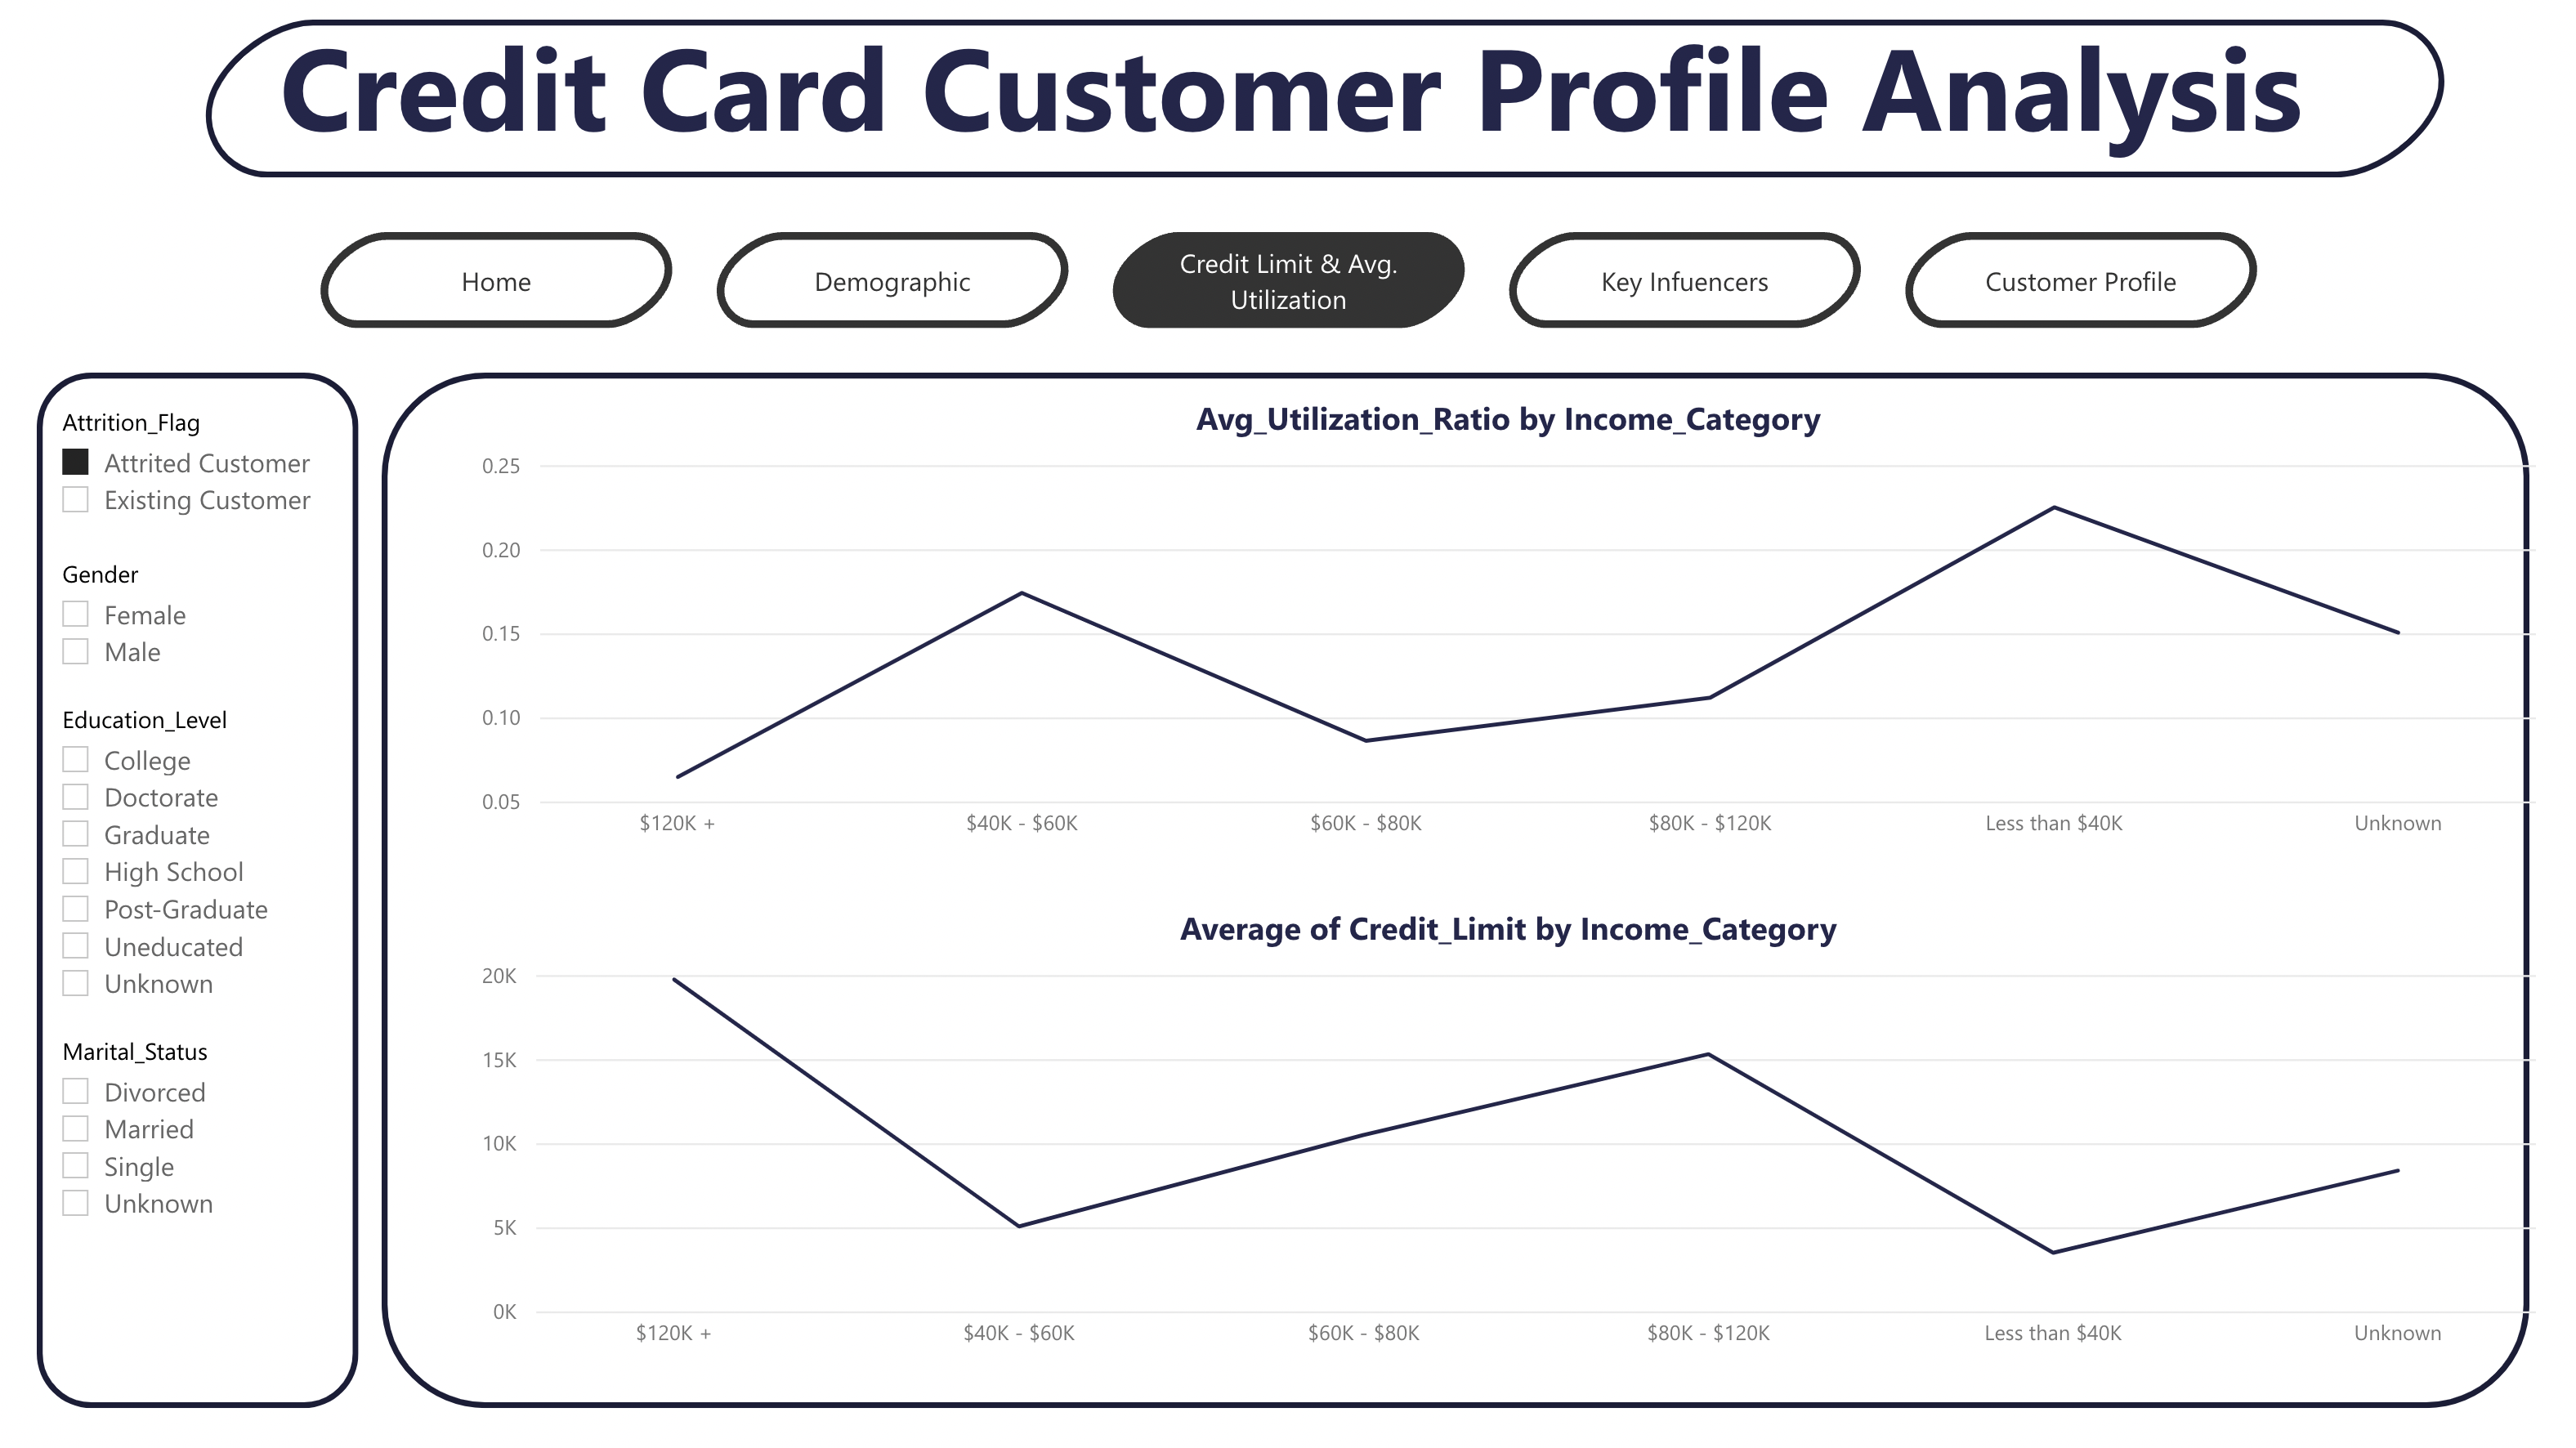

What the dashboard file says about the page in this screenshot:
{"tool":"powerbi","page":{"name":"Credit Limit & Avg. Utilization","canvas":[1280,720],"ordinal":2},"visuals":[{"type":"shape","box":[75.7,12,1162.1,80.3],"z":0,"group":"g2"},{"type":"group","id":"g1","title":"Group 7","box":[176,191.4,1104,528.1],"z":0},{"type":"shape","box":[176,191.4,1095,528.1],"z":0,"group":"g1"},{"type":"slicer","fields":{"Values":["BankChurners.Attrition_Flag"]},"box":[0,203.4,164.1,76.9],"z":0,"group":"g3"},{"type":"group","id":"g2","title":"Group 3","box":[0,0,1278.3,119.6],"z":1000},{"type":"textbox","box":[0,0,1279,119.6],"z":1000,"group":"g2"},{"type":"lineChart","fields":{"Category":["BankChurners.Gender","BankChurners.Marital_Status","BankChurners.Education_Level","BankChurners.Income_Category"],"Y":["Avg(BankChurners.Avg_Utilization_Ratio)"]},"box":[222.1,202.8,1057.4,234.8],"z":1000,"group":"g1"},{"type":"slicer","fields":{"Values":["BankChurners.Gender"]},"box":[0,280.3,138.4,76.9],"z":1000,"group":"g3"},{"type":"pageNavigator","box":[138.4,119.6,1001.4,49.6],"z":2000},{"type":"shape","box":[0,191.4,164.1,528.1],"z":2000,"group":"g3"},{"type":"lineChart","fields":{"Category":["BankChurners.Gender","BankChurners.Marital_Status","BankChurners.Education_Level","BankChurners.Income_Category"],"Y":["Avg(BankChurners.Credit_Limit)"]},"box":[222.1,463,1057.4,234.8],"z":2000,"group":"g1"},{"type":"slicer","fields":{"Values":["BankChurners.Marital_Status"]},"box":[0,524.3,138.6,110],"z":2500,"group":"g3"},{"type":"group","id":"g3","title":"Group 1","box":[0,191.4,164.1,528.1],"z":3000},{"type":"slicer","fields":{"Values":["BankChurners.Education_Level"]},"box":[0,355.1,138.6,185.7],"z":3000,"group":"g3"}]}

Visuals, with their boxes in screenshot pixels (x1, y1, x2, y2), scaled from the page's 1280x720 canvas onto the 2576x1448 screenshot:
shape: 152 25 2491 185
"Group 7" group: 354 385 2575 1447
shape: 354 385 2558 1447
slicer - BankChurners.Attrition_Flag: 0 409 330 564
"Group 3" group: 0 0 2573 240
textbox: 0 0 2574 240
lineChart - BankChurners.Gender x BankChurners.Marital_Status: 447 408 2575 880
slicer - BankChurners.Gender: 0 564 279 718
pageNavigator: 279 240 2294 340
shape: 0 385 330 1447
lineChart - BankChurners.Gender x BankChurners.Marital_Status: 447 931 2575 1403
slicer - BankChurners.Marital_Status: 0 1054 279 1276
"Group 1" group: 0 385 330 1447
slicer - BankChurners.Education_Level: 0 714 279 1088
